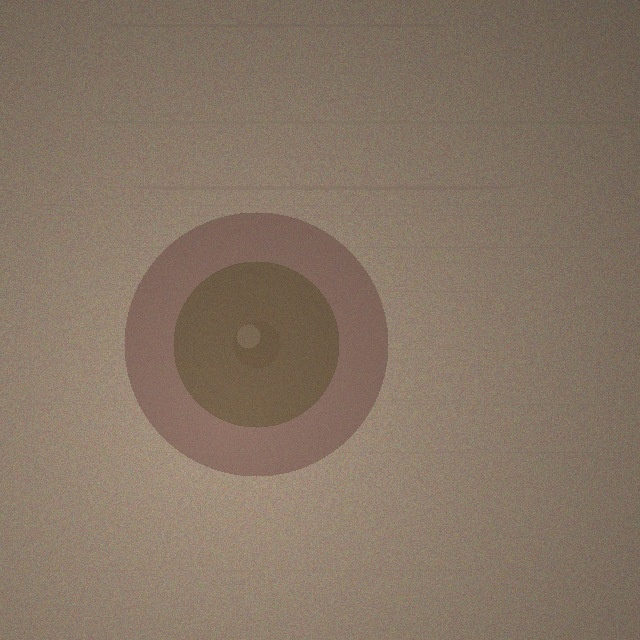good: (124, 212, 388, 476)
